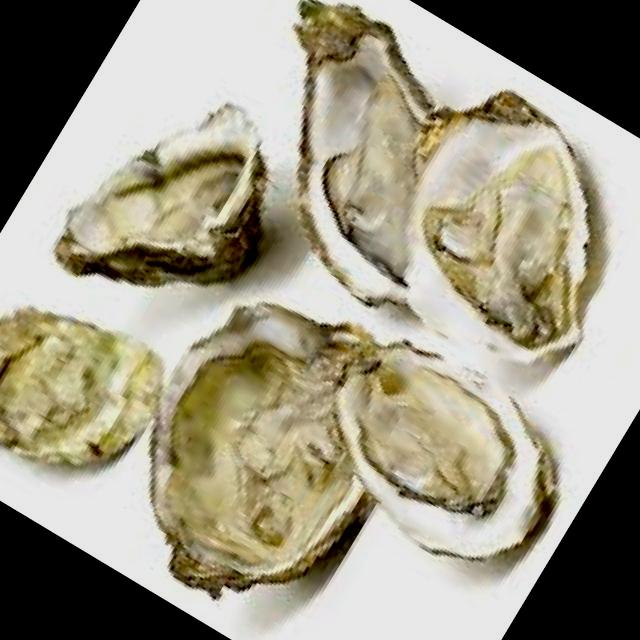Oyster-Closed: (0, 308, 161, 466)
Oyster-Open: (152, 305, 379, 597), (405, 91, 588, 361), (338, 346, 556, 559), (295, 0, 440, 304), (55, 104, 269, 286)
